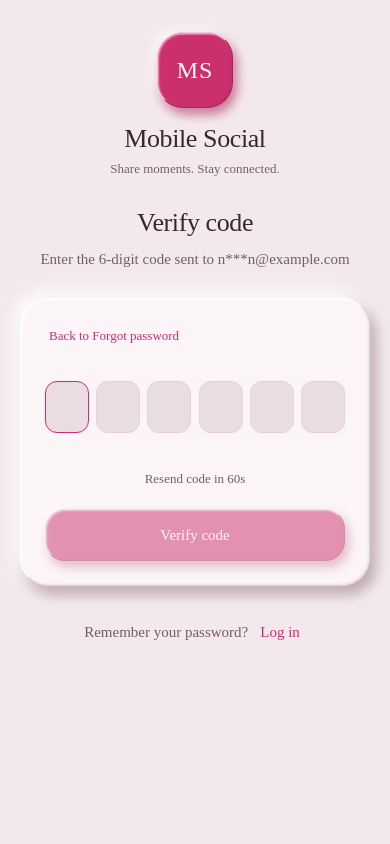
Test: VerifyCodeScreen (Phase 3) › UI rendering & interactions › displays error message when incorrect code is submitted
Step 1. Type "000000" into the field named "Verification code input" → (195,407), box x1=45 y1=381 x2=345 y2=433
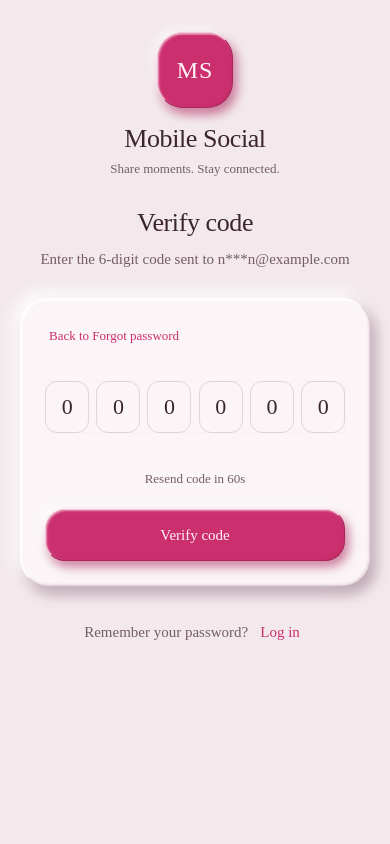
Step 2. Click the button labelled "Verify code" → (195,535), box x1=45 y1=509 x2=345 y2=561
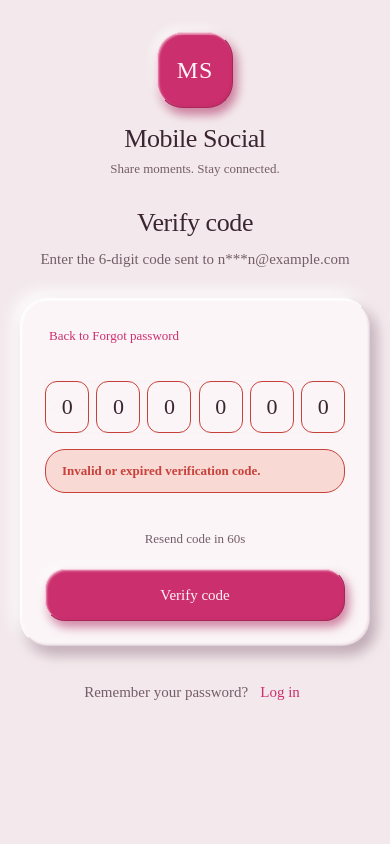
expect the text "Invalid or expired verification code." is shown: met, box x1=62 y1=463 x2=260 y2=478
